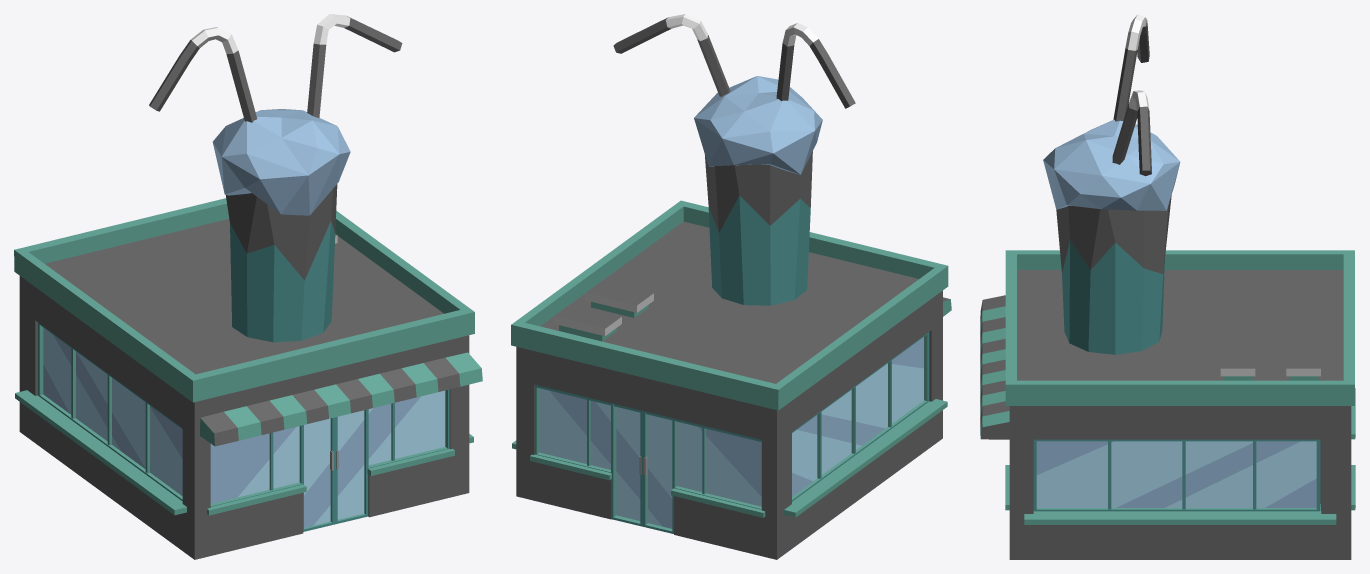
File: cafe_009.fbx
3 views of the same model, side by side, from view 1: azimuth 30°, elevation 25°; view 2: azimuth 150°, elevation 25°; view 3: azimuth 270°, elevation 25° (orthographic). The views are drawn at different scales.
Visible parts, largest first — view 1: cafe_009; view 2: cafe_009; view 3: cafe_009.
Boxes of the visible parts, box(x1,y1,x2,y2) form: cafe_009: box(14, 14, 482, 559); cafe_009: box(511, 14, 951, 559); cafe_009: box(980, 14, 1355, 559).
Size of the model in its own units: 564 by 834 by 627.
